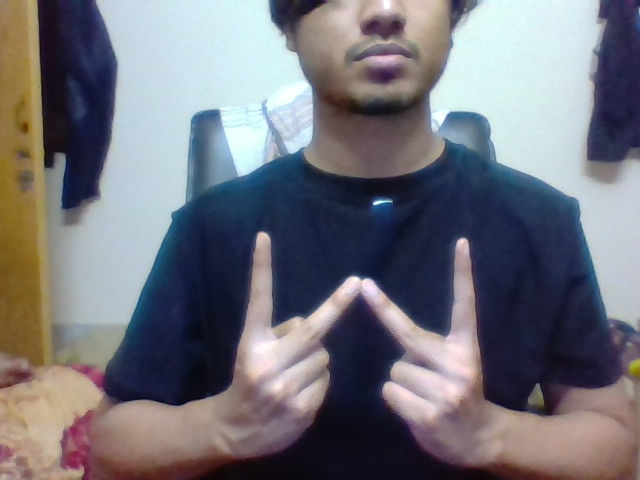W: (243, 221, 482, 345)
